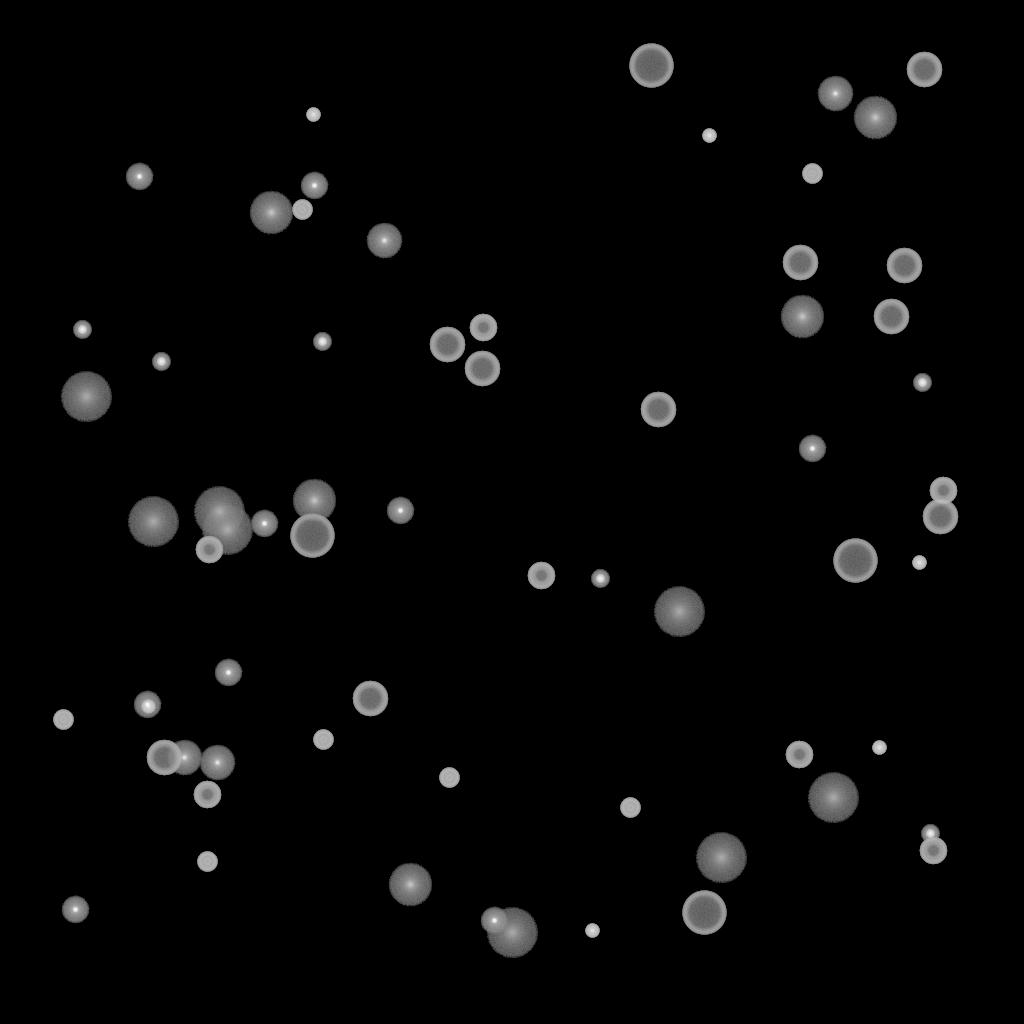depth:-10: (125, 163, 153, 191), (250, 510, 278, 538), (214, 659, 242, 687), (300, 172, 328, 200), (133, 691, 161, 719), (61, 896, 89, 924), (798, 435, 826, 463), (480, 907, 508, 935), (386, 497, 414, 525)
depth:-20: (591, 570, 609, 588), (152, 353, 170, 371), (913, 374, 931, 392), (73, 321, 91, 339), (921, 825, 939, 843), (313, 333, 331, 351)
depth:-30: (702, 129, 716, 143), (585, 924, 599, 938), (872, 741, 886, 755), (141, 700, 155, 714), (912, 556, 926, 570), (306, 108, 320, 122)
depth:-40: (292, 200, 312, 220), (53, 710, 73, 730), (197, 852, 217, 872), (620, 798, 640, 818), (439, 768, 459, 788), (313, 730, 333, 750), (802, 164, 822, 184)
depth:-50: (195, 536, 223, 564), (929, 477, 957, 505), (785, 741, 813, 769), (527, 562, 555, 590), (193, 781, 221, 809), (469, 314, 497, 342), (919, 837, 947, 865)
depth:-60: (873, 299, 909, 335), (464, 351, 500, 387), (782, 245, 818, 281), (146, 740, 182, 776), (352, 681, 388, 717), (640, 392, 676, 428), (429, 327, 465, 363), (906, 52, 942, 88), (922, 499, 958, 535), (886, 248, 922, 284)
depth:-70: (682, 891, 726, 935), (629, 44, 673, 88), (833, 539, 877, 583), (290, 514, 334, 558)
depth:0: (166, 740, 202, 776), (199, 745, 235, 781), (366, 223, 402, 259), (817, 76, 853, 112)
depth:10: (388, 863, 432, 907), (292, 479, 336, 523), (780, 295, 824, 339), (249, 191, 293, 235), (853, 96, 897, 140)
depth:20: (653, 587, 705, 637), (695, 833, 747, 883), (127, 497, 179, 547), (193, 487, 245, 537), (60, 372, 112, 422), (486, 908, 538, 958), (201, 505, 253, 555), (807, 773, 859, 823)
